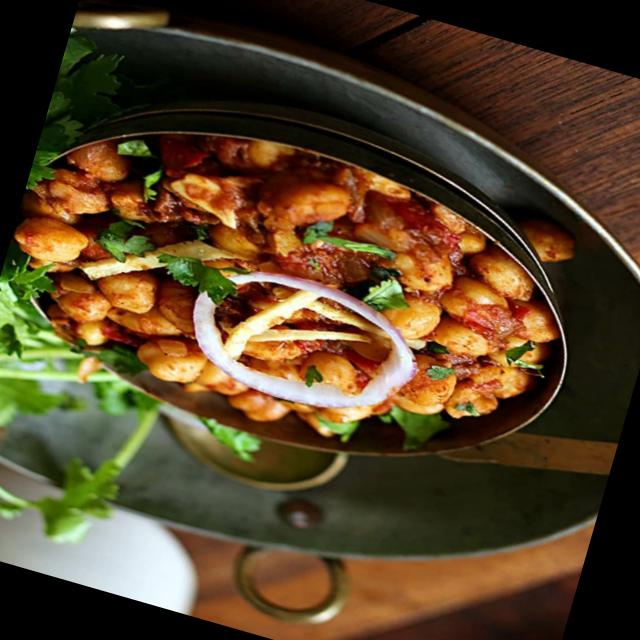Chole: (0, 81, 589, 494)
